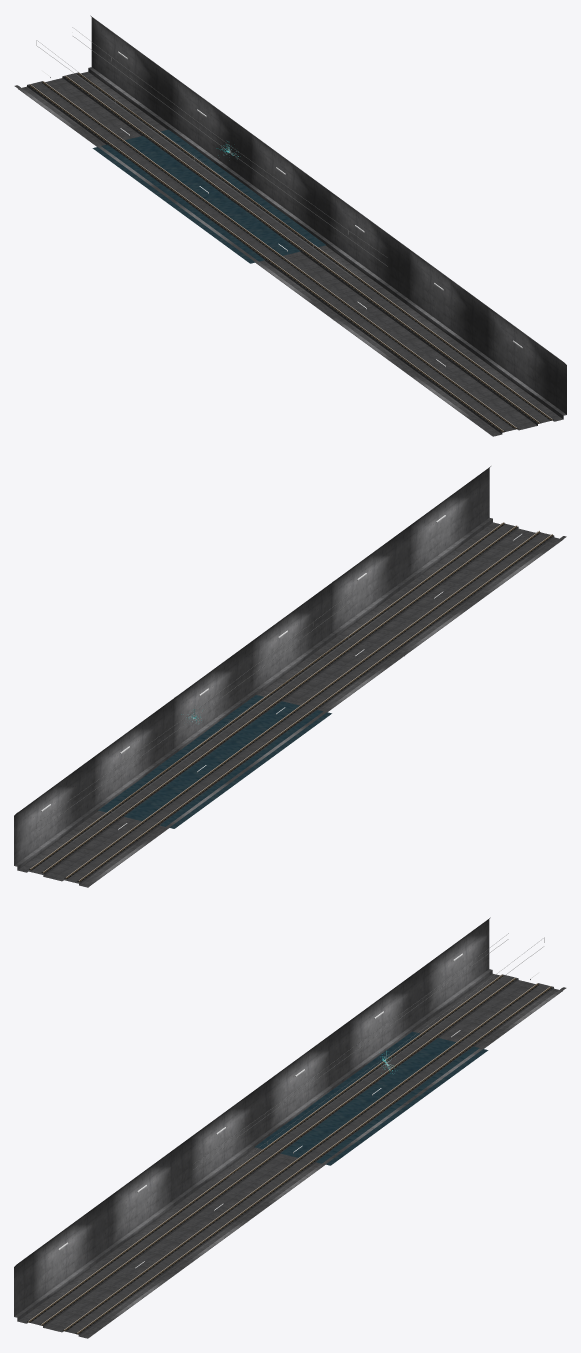
Rendered from KIN_EVENT_KASEN.glb.
3 views of the same model, one above another, from view 1: azimuth 30°, elevation 25°; view 2: azimuth 150°, elevation 25°; view 3: azimuth 330°, elevation 25° (orthographic).
Visible parts, largest first — view 1: obj1, OIL, Line1; view 2: obj1, OIL, Line1; view 3: obj1, OIL, Line1.
Boxes of the visible parts, x1,y1,x2,y2 form: obj1: (14,15,566,436); OIL: (92,129,326,263); Line1: (36,40,352,276); obj1: (14,466,566,887); OIL: (98,695,331,828); Line1: (72,605,387,841); obj1: (14,917,566,1338); OIL: (254,1031,488,1165); Line1: (193,933,508,1169).
Bounding box in the file's own units: 30 × 20 × 301.
Materials: 17 (8 with a texture image).
